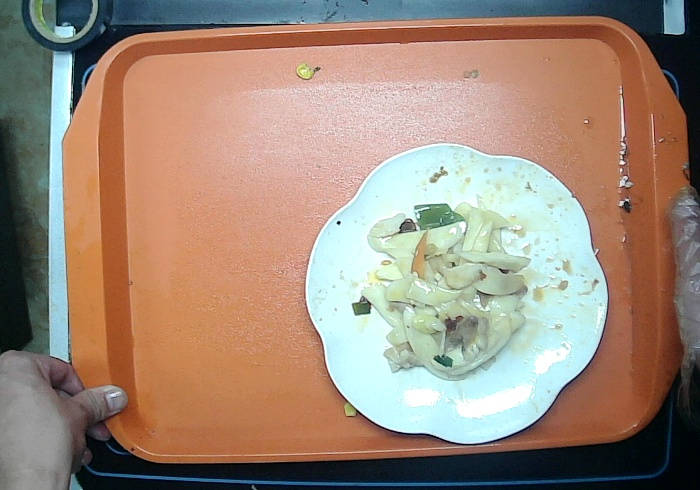HZYJPL-Bai_Se_Hua_Duo_Wan: (293, 123, 634, 463)
